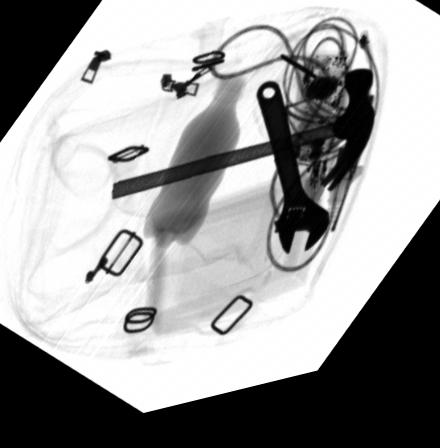Hammer: (110, 85, 374, 209)
Wrench: (254, 94, 328, 270)
